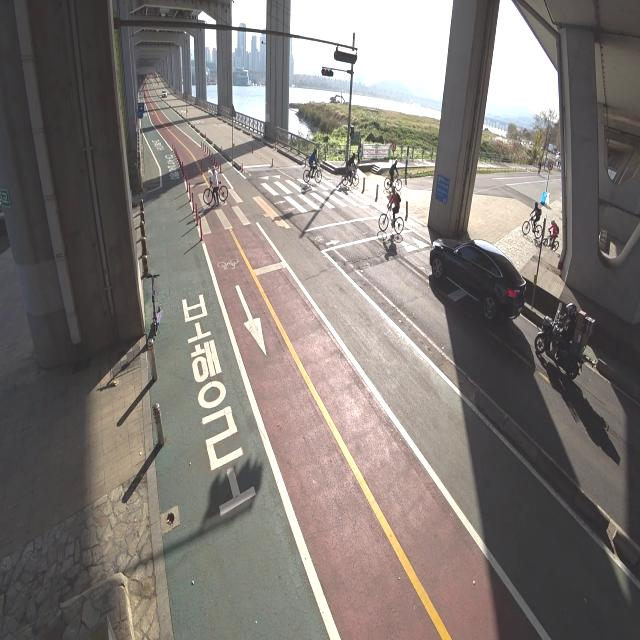Car: (422, 214, 529, 318), (160, 85, 168, 103)
Motorcycle: (534, 300, 596, 382)
